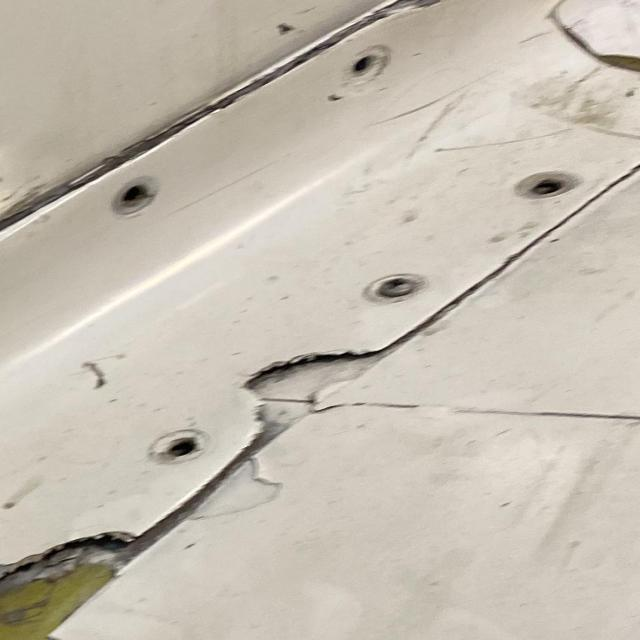Crack: (0, 523, 170, 640), (236, 342, 384, 443), (384, 0, 574, 22)
Missing_Fastener: (158, 414, 210, 470), (510, 164, 582, 202), (97, 179, 172, 214), (336, 46, 402, 84)
